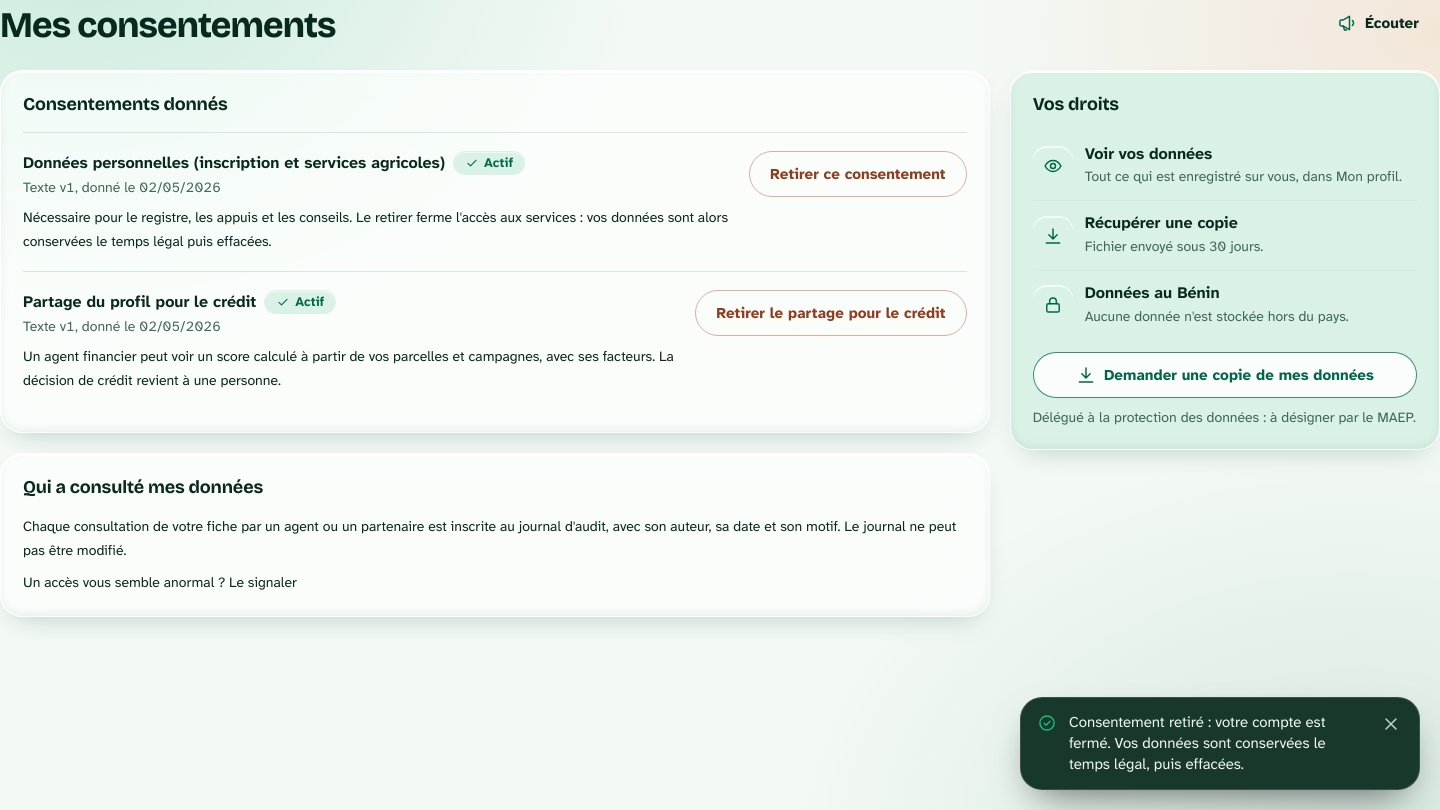
it: Mes consentements › retirer le partage pour le crédit garde la session
The width and height of the screenshot is (1440, 810).
Click the button "Retirer le partage pour le crédit": (831, 312) [695,290,967,336]
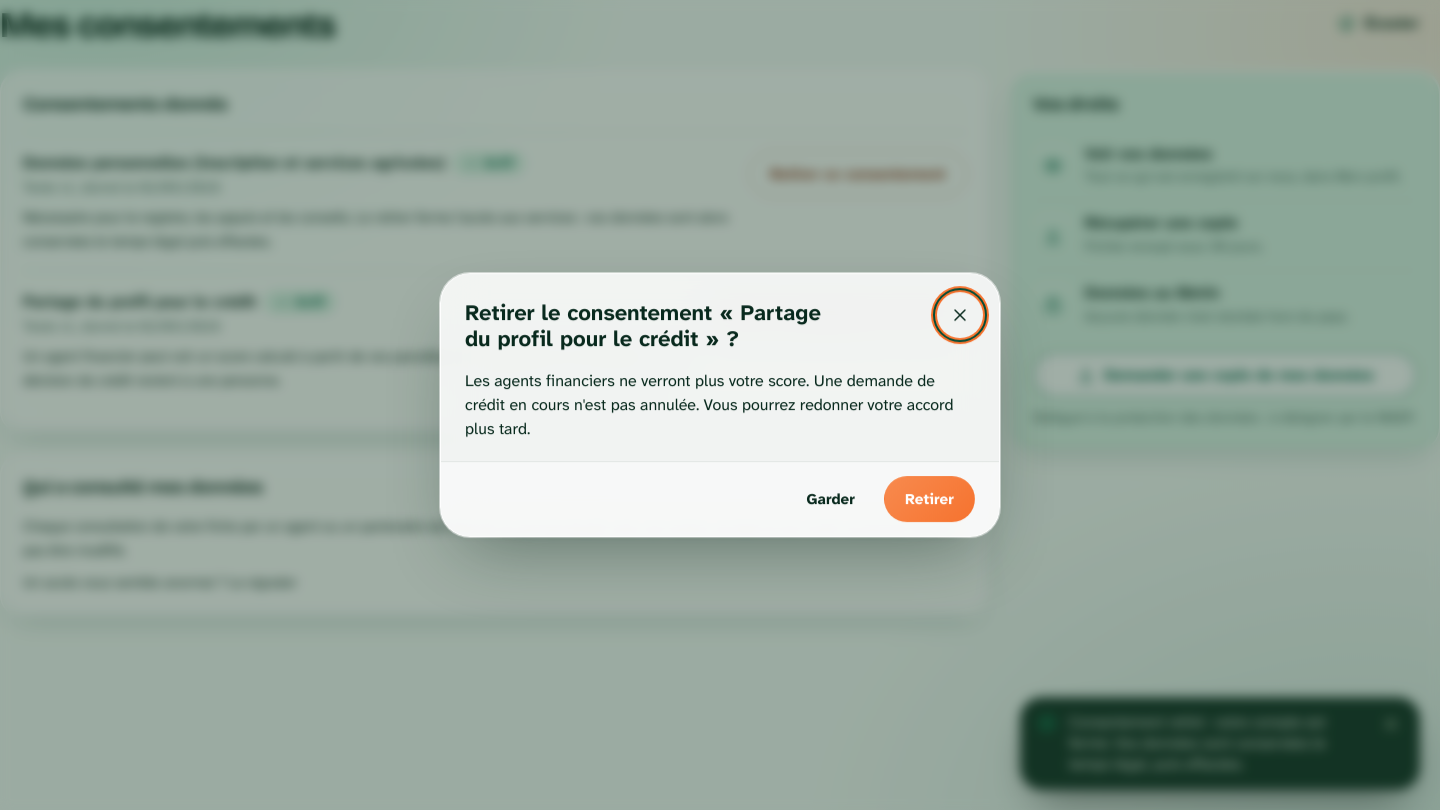
Click the button "Retirer": (930, 499) [884,476,975,522]
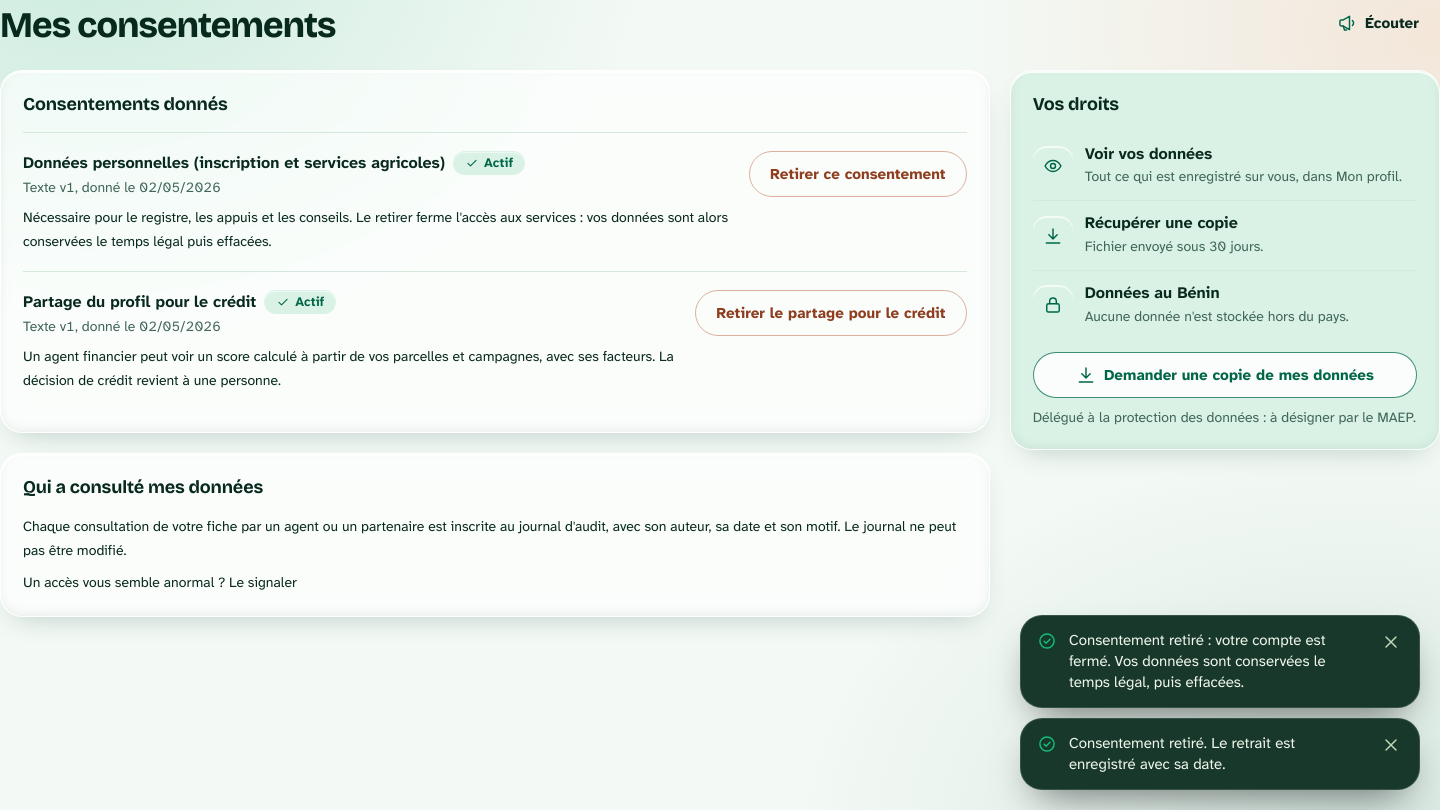
Expected: the text "Consentement retiré. Le retrait est enregistré avec sa date." is shown, [1069,733,1295,774]
